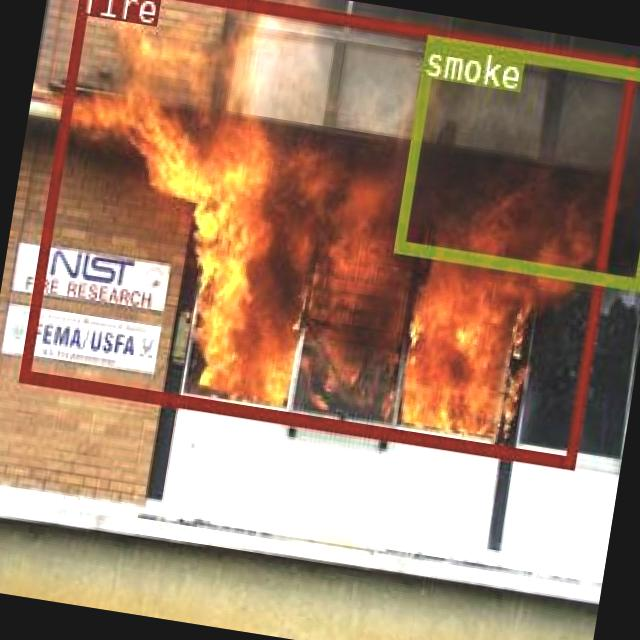fire: (17, 0, 637, 466)
smoke: (392, 32, 640, 289)
